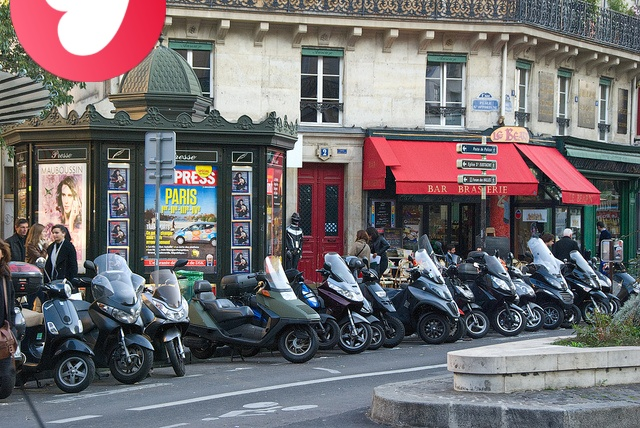love: (10, 0, 166, 82)
